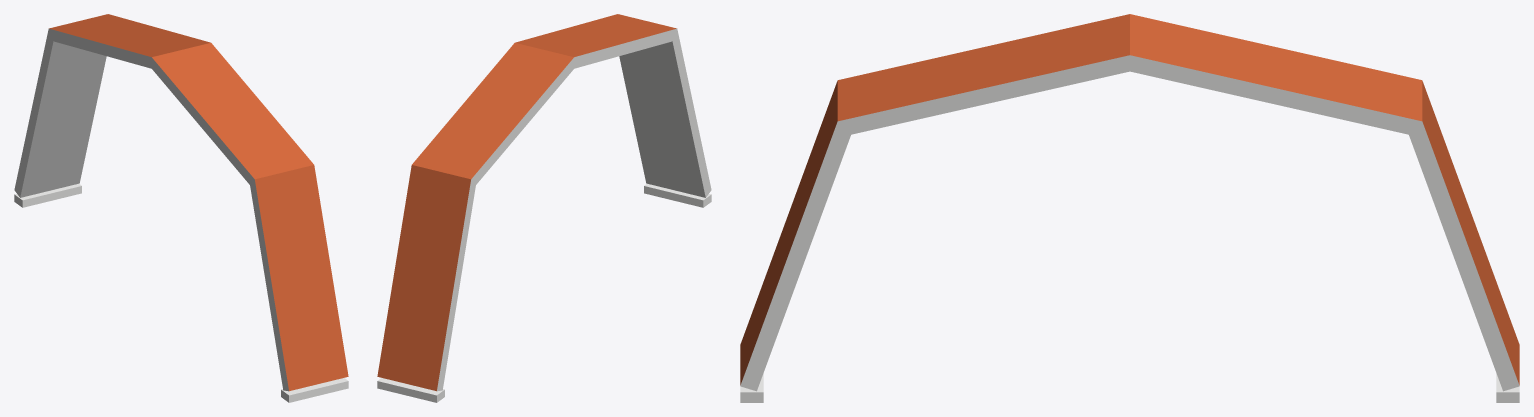
The model's file is telhado_mansarda_v4_0_5m.glb.
3 renders of one model, left to right at view 1: azimuth 30°, elevation 25°; view 2: azimuth 150°, elevation 25°; view 3: azimuth 270°, elevation 25°, orthographic. The views are drawn at different scales.
Parts seen in each view (by area): view 1: telhado_mansarda_v4_0_5m; view 2: telhado_mansarda_v4_0_5m; view 3: telhado_mansarda_v4_0_5m.
Boxes of the visible parts, x1,y1,x2,y2 form: telhado_mansarda_v4_0_5m: [14, 14, 348, 402]; telhado_mansarda_v4_0_5m: [377, 14, 711, 402]; telhado_mansarda_v4_0_5m: [740, 14, 1519, 402].
Size of the model in its own units: 0.5 by 1.97 by 4.
